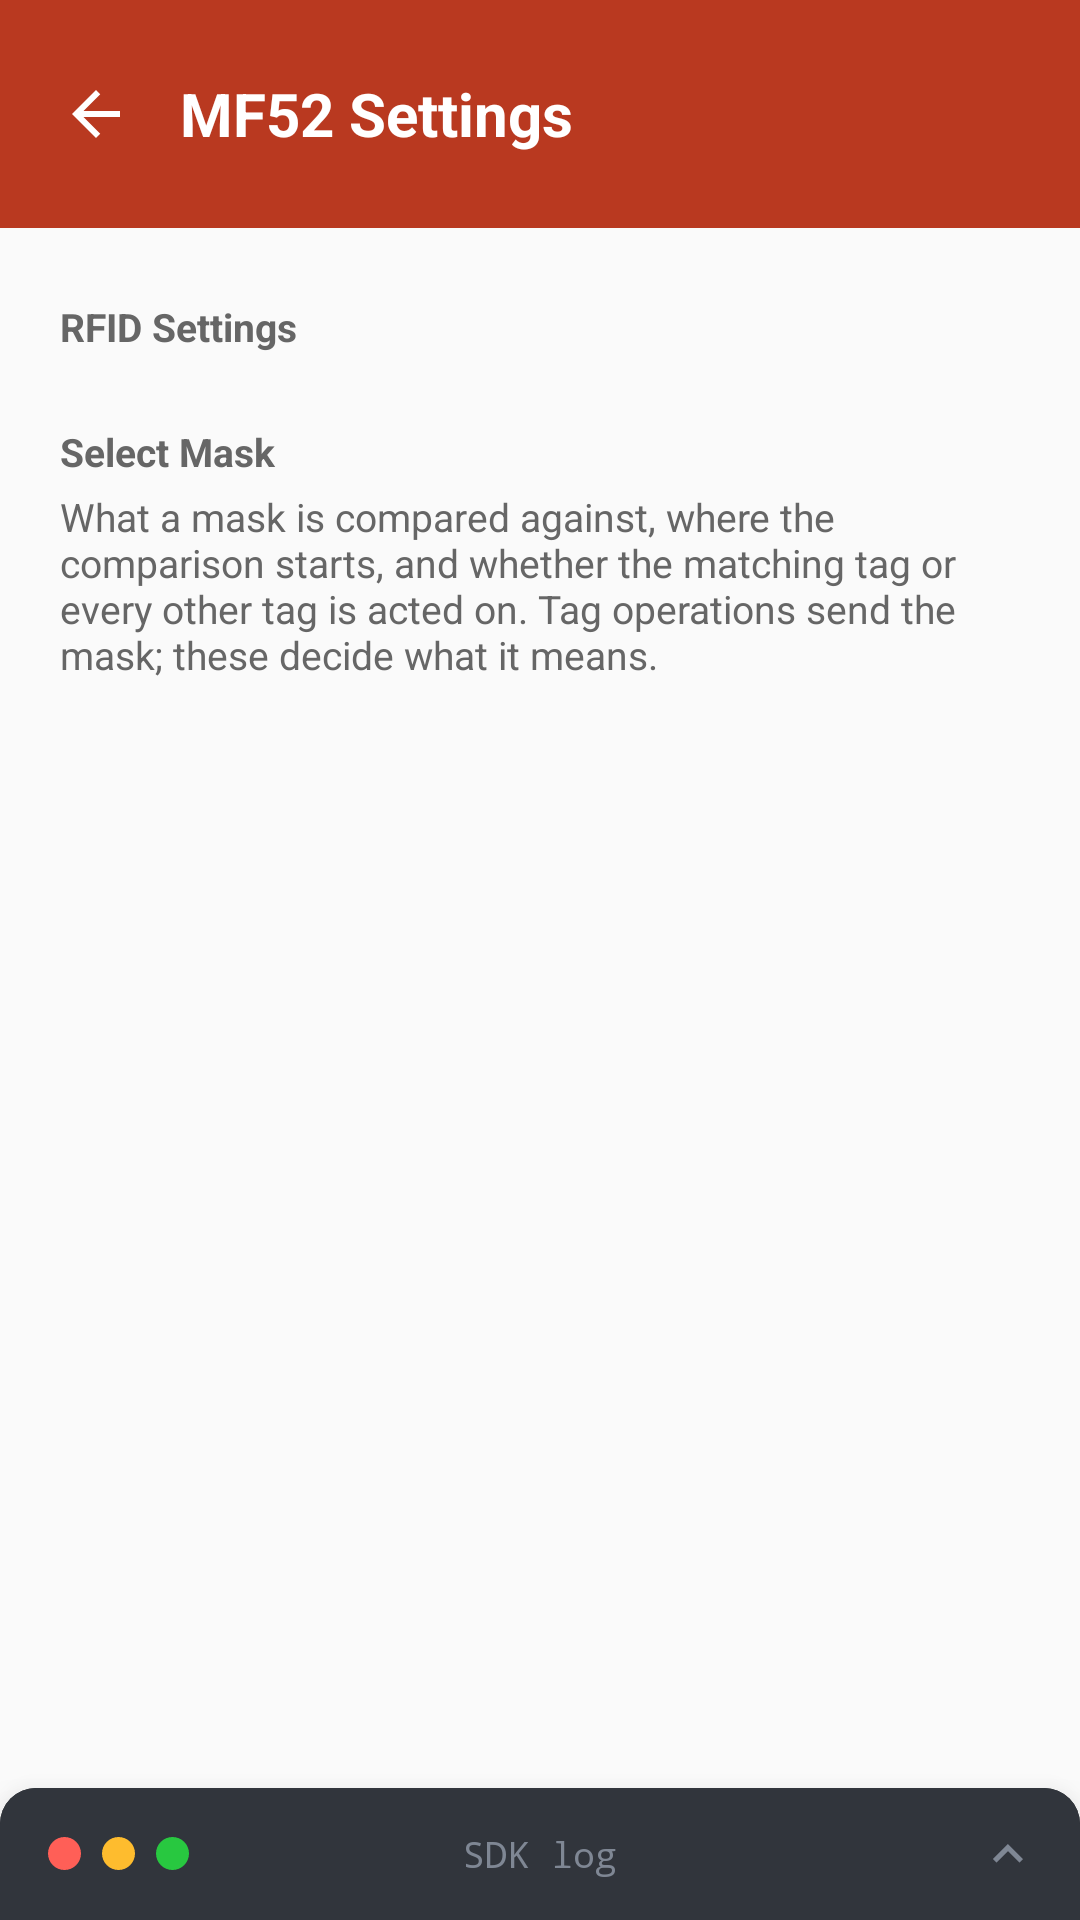

Where icons sit on this 1080×1920 app screen, as region(x1, y1, x2, y2):
Back: region(72, 90, 120, 138)
